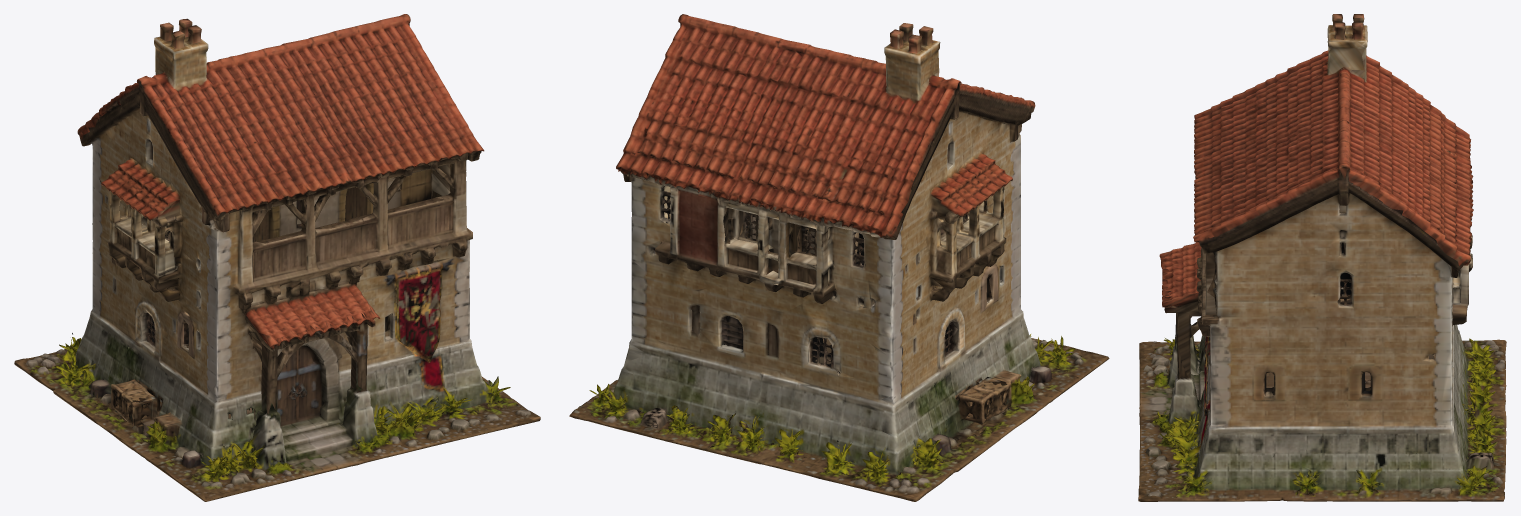
File: SM_AldeaConcejil.fbx
3 views of the same model, side by side, from view 1: azimuth 30°, elevation 25°; view 2: azimuth 150°, elevation 25°; view 3: azimuth 270°, elevation 25° (orthographic). The views are drawn at different scales.
Parts seen in each view (by area): view 1: SM_AldeaConcejil; view 2: SM_AldeaConcejil; view 3: SM_AldeaConcejil.
Boxes of the visible parts, left/top/right/bottom form: SM_AldeaConcejil: left=14, top=14, right=540, bottom=501; SM_AldeaConcejil: left=569, top=14, right=1109, bottom=501; SM_AldeaConcejil: left=1138, top=14, right=1506, bottom=501.
Size of the model in its own units: 99.98 by 106 by 97.47.
Materials: 1 (1 with a texture image).
